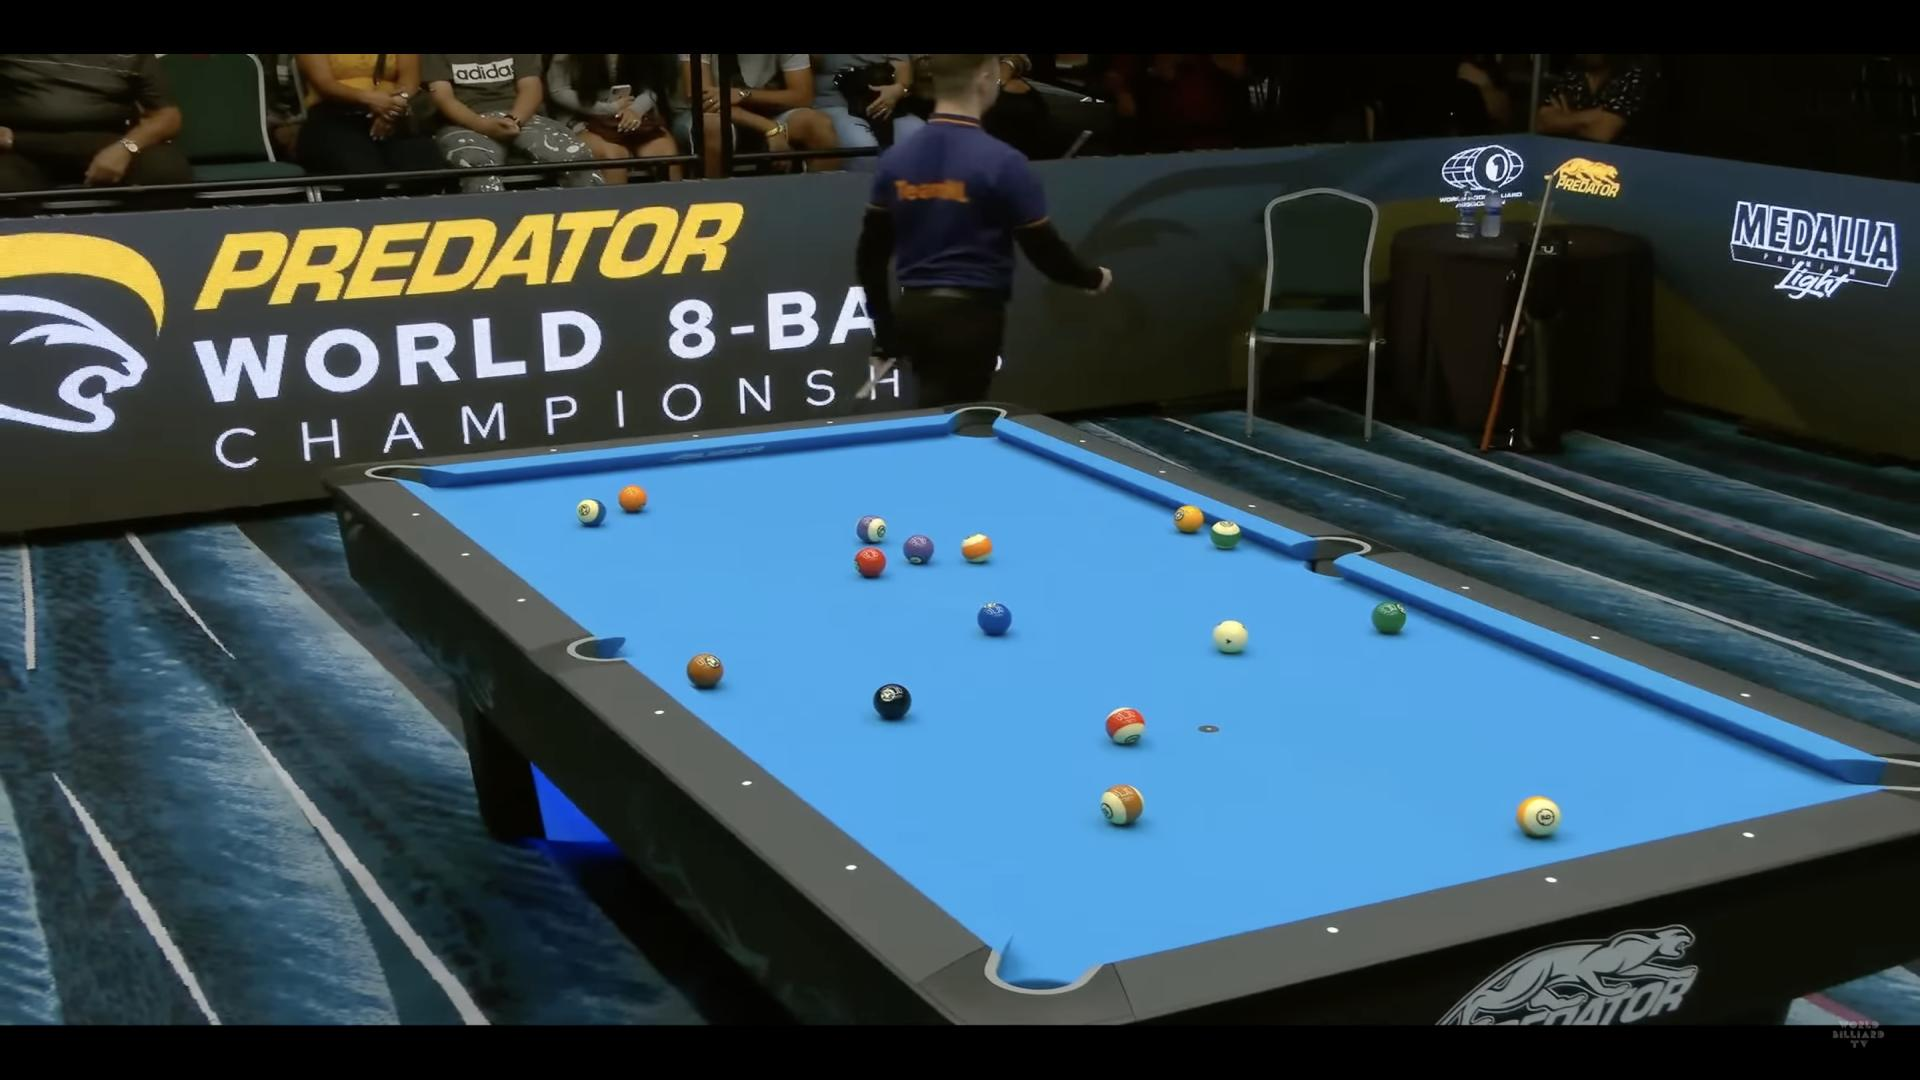Black: (873, 683, 913, 719)
Cue: (1213, 620, 1249, 653)
Dot: (843, 858, 862, 876), (736, 774, 756, 791), (513, 593, 529, 607), (651, 705, 666, 719), (1738, 688, 1751, 702), (1458, 582, 1472, 595), (1588, 632, 1602, 644), (458, 549, 472, 560), (1742, 829, 1754, 841), (1327, 926, 1338, 936), (1545, 874, 1557, 885), (410, 512, 419, 520), (549, 447, 558, 455), (692, 433, 702, 440), (824, 418, 833, 426), (1247, 502, 1257, 510), (1158, 468, 1167, 476), (1077, 436, 1087, 444)
Solid: (686, 654, 724, 687), (977, 603, 1011, 634), (1371, 601, 1406, 633), (855, 547, 887, 578), (903, 535, 934, 564), (1174, 505, 1204, 533), (618, 485, 647, 512)
Striped: (1516, 795, 1561, 837), (1101, 785, 1145, 824), (1105, 707, 1145, 744), (960, 533, 992, 563), (1211, 521, 1241, 549), (856, 516, 886, 543), (576, 498, 607, 526)
